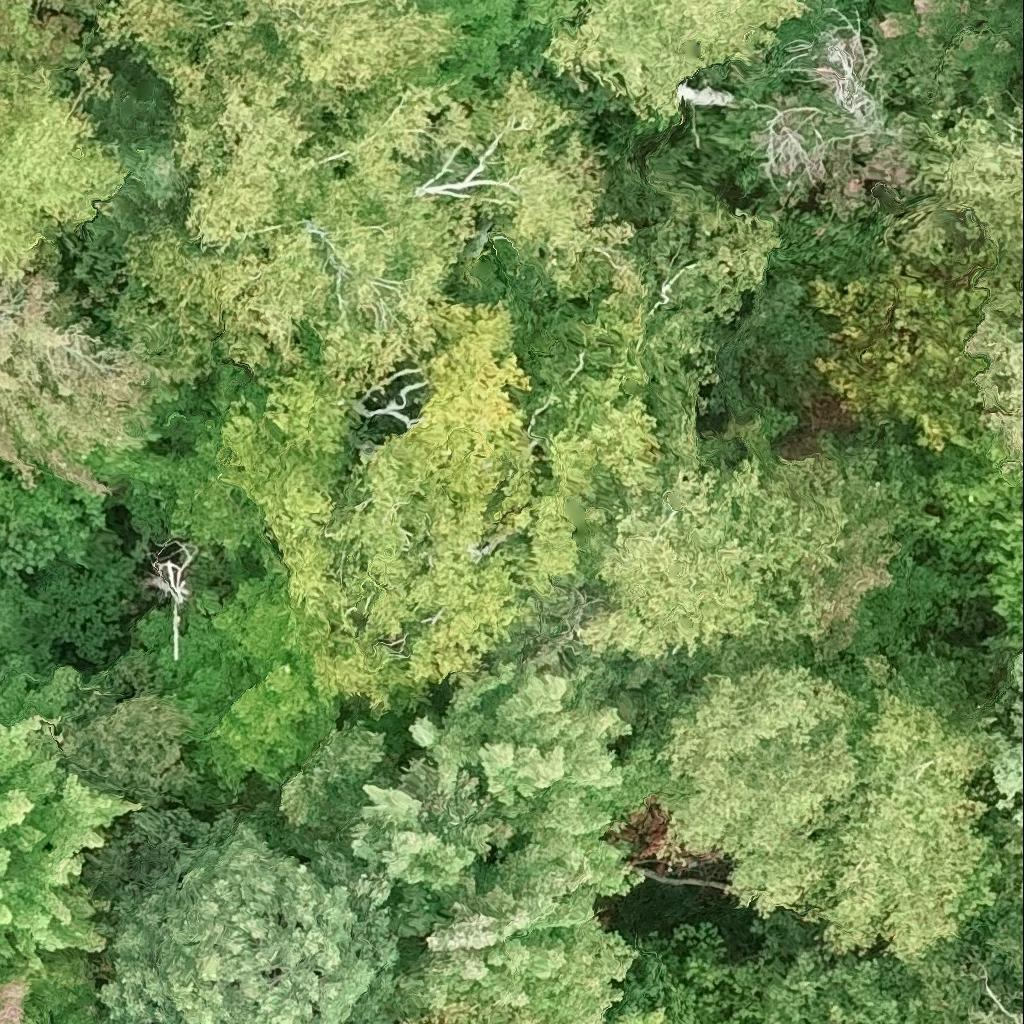crown: (277, 654, 680, 1023), (60, 657, 403, 1023), (311, 65, 640, 387), (802, 647, 1010, 961), (321, 438, 578, 683), (701, 4, 937, 235), (661, 666, 872, 915), (127, 570, 314, 810), (578, 458, 800, 658), (95, 0, 447, 124), (214, 363, 363, 654), (0, 666, 141, 968), (350, 299, 534, 515), (812, 242, 992, 446), (532, 0, 812, 126), (0, 269, 146, 494), (129, 226, 335, 376), (174, 76, 338, 257), (763, 453, 899, 663), (0, 61, 126, 281), (884, 101, 1023, 291), (930, 436, 1023, 634), (217, 657, 343, 794), (868, 0, 1013, 116), (531, 375, 660, 502), (963, 282, 1023, 480), (0, 0, 109, 96), (309, 628, 422, 719), (0, 478, 91, 579), (0, 952, 96, 1023), (993, 649, 1023, 829), (142, 548, 191, 656), (964, 994, 1023, 1023), (408, 1002, 488, 1023), (612, 1005, 669, 1023), (507, 1016, 550, 1023)
